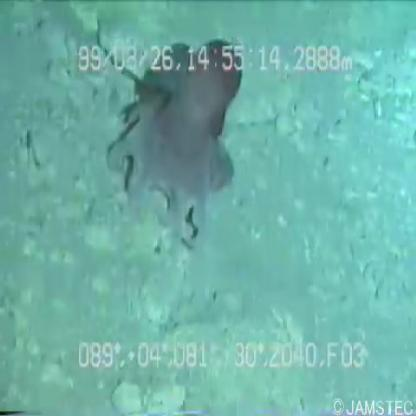Bio: (101, 34, 246, 256)
